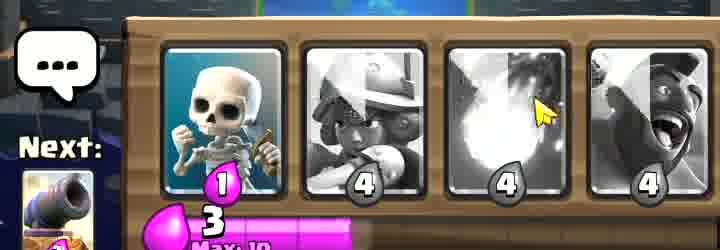cannon: (22, 171, 94, 250)
fireball: (444, 55, 555, 197)
